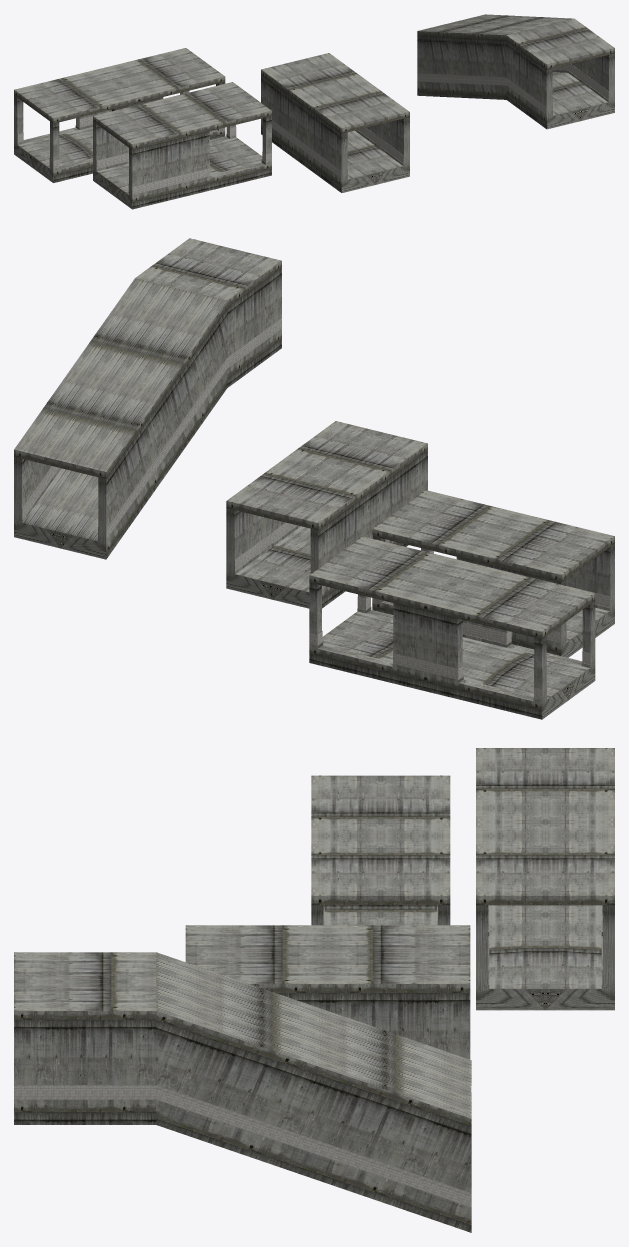
The model's file is metroHallways.FBX.
3 views of the same model, one above another, from view 1: azimuth 30°, elevation 25°; view 2: azimuth 150°, elevation 25°; view 3: azimuth 270°, elevation 25° (orthographic). The views are drawn at different scales.
Visible parts, largest first — view 1: hallways001, hallways003, hallways002, hallways; view 2: hallways001, hallways, hallways002, hallways003; view 3: hallways001, hallways, hallways002, hallways003.
Boxes of the visible parts, x1=… form: hallways001: x1=417, y1=14, x2=614, y2=129; hallways003: x1=93, y1=82, x2=271, y2=209; hallways002: x1=261, y1=53, x2=409, y2=192; hallways: x1=14, y1=48, x2=225, y2=182; hallways001: x1=14, y1=238, x2=281, y2=559; hallways: x1=309, y1=536, x2=595, y2=719; hallways002: x1=226, y1=421, x2=427, y2=608; hallways003: x1=372, y1=490, x2=614, y2=657; hallways001: x1=14, y1=952, x2=471, y2=1232; hallways: x1=476, y1=748, x2=614, y2=1010; hallways002: x1=185, y1=925, x2=470, y2=1059; hallways003: x1=311, y1=775, x2=450, y2=925.
Size of the model in its own units: 858 by 240 by 587.
